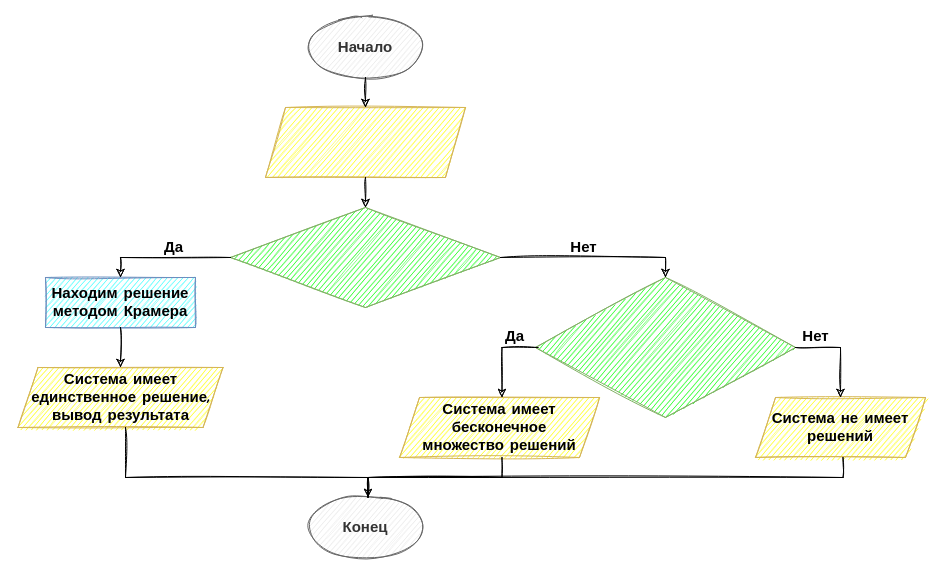
Image size: 943x575. Some labels were removed from this diagram. The box of each missing label's shape, as (x1, y1, x2, y2) in pixels:
Ввод коэффицентов и свободных членов: (264, 106, 466, 178)
Коэффиценты и свободные члены пропорциональны?: (534, 276, 796, 418)
Коэффиценты уравнений пропорциональны?: (230, 206, 500, 308)
